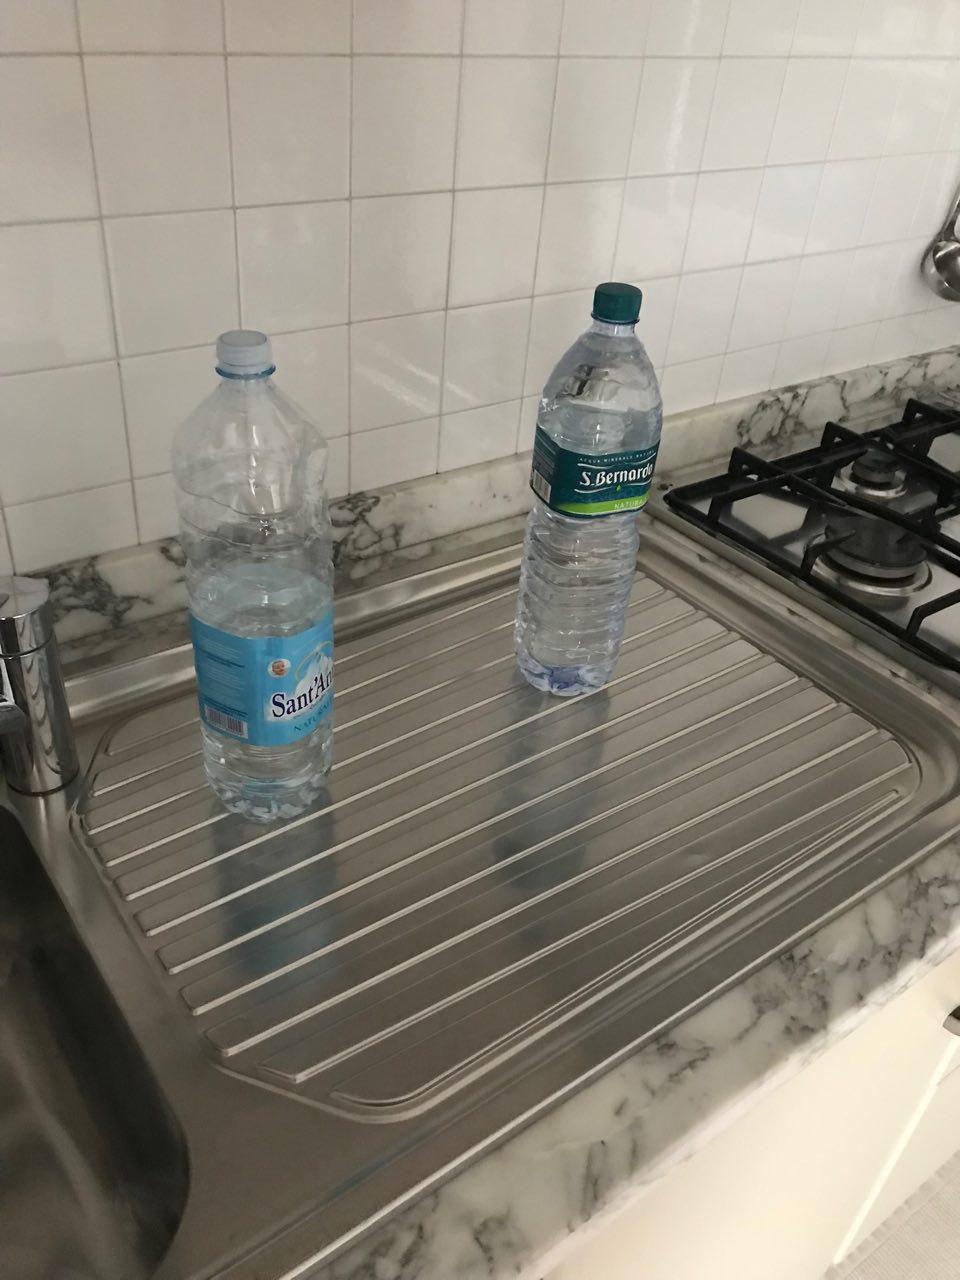san_bernardo: (513, 281, 664, 698)
